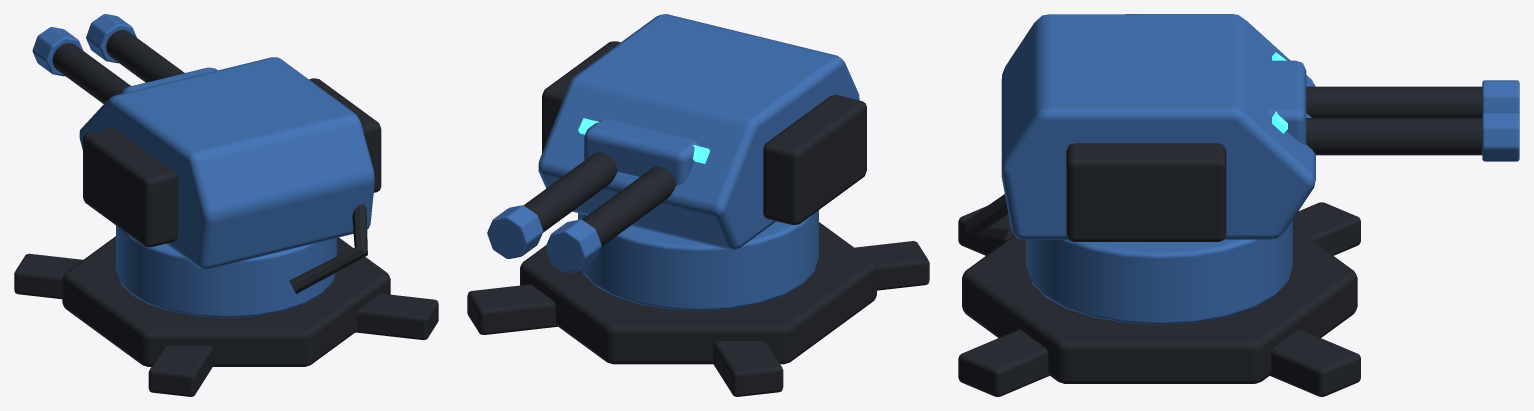
Rendered from sample_turret.glb.
3 views of the same model, side by side, from view 1: azimuth 30°, elevation 25°; view 2: azimuth 150°, elevation 25°; view 3: azimuth 270°, elevation 25° (orthographic). The views are drawn at different scales.
Visible parts, largest first — view 1: turret, base, barrel; view 2: turret, base, barrel; view 3: turret, base, barrel.
Part boxes in pixels (bbox=[...]): turret: bbox=[79, 57, 381, 293]; base: bbox=[14, 225, 438, 396]; barrel: bbox=[32, 14, 217, 103]; turret: bbox=[538, 14, 866, 250]; base: bbox=[467, 210, 929, 396]; barrel: bbox=[487, 118, 698, 273]; turret: bbox=[964, 14, 1315, 241]; base: bbox=[958, 202, 1360, 396]; barrel: bbox=[1266, 60, 1519, 161].
Bounding box in the file's own units: 1.51 × 1.05 × 2.11.
